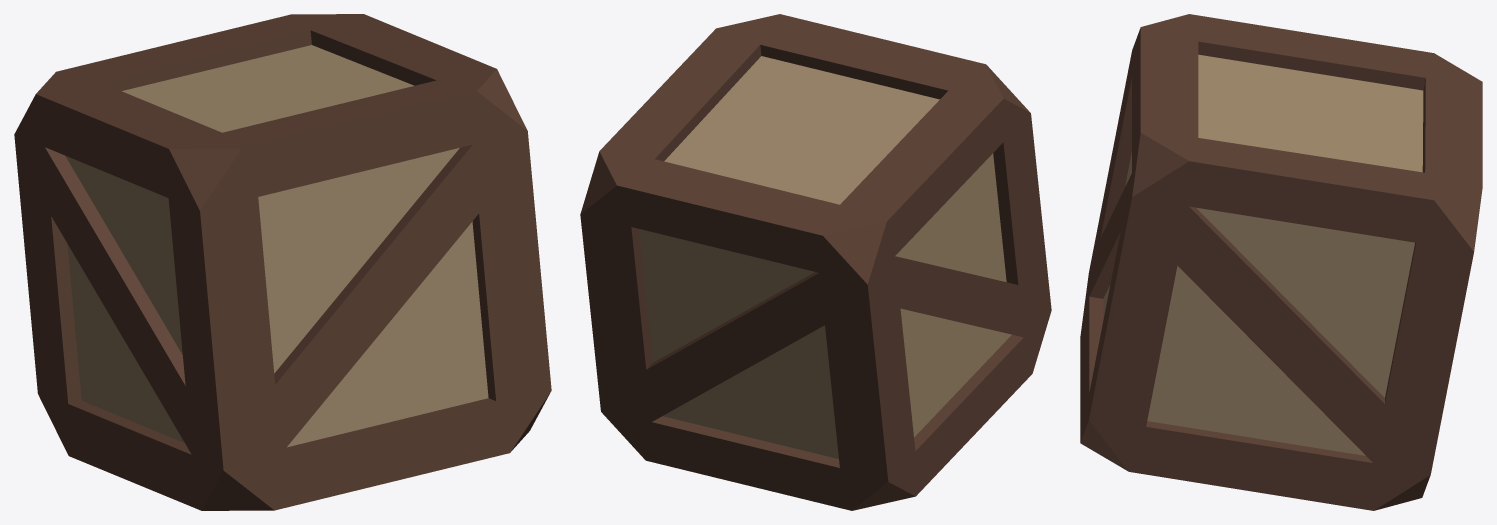
File: Caja .fbx
3 renders of one model, left to right at view 1: azimuth 30°, elevation 25°; view 2: azimuth 150°, elevation 25°; view 3: azimuth 270°, elevation 25°, orthographic. The views are drawn at different scales.
Visible parts, largest first — view 1: Caja madera; view 2: Caja madera; view 3: Caja madera.
Boxes of the visible parts, x1,y1,x2,y2 form: Caja madera: (14, 14, 551, 510); Caja madera: (580, 14, 1051, 510); Caja madera: (1080, 14, 1482, 510).
Bounding box in the file's own units: 34.45 × 39.86 × 39.8.
